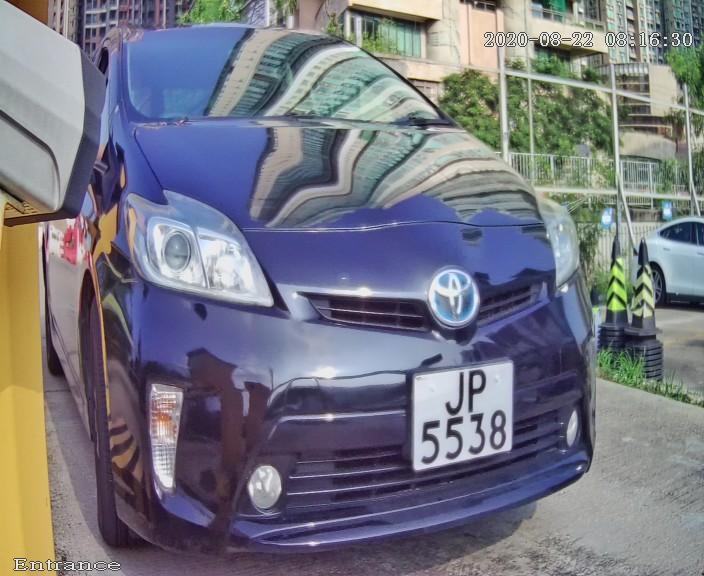Car: (29, 1, 642, 576)
License Plate: (403, 350, 522, 479)
